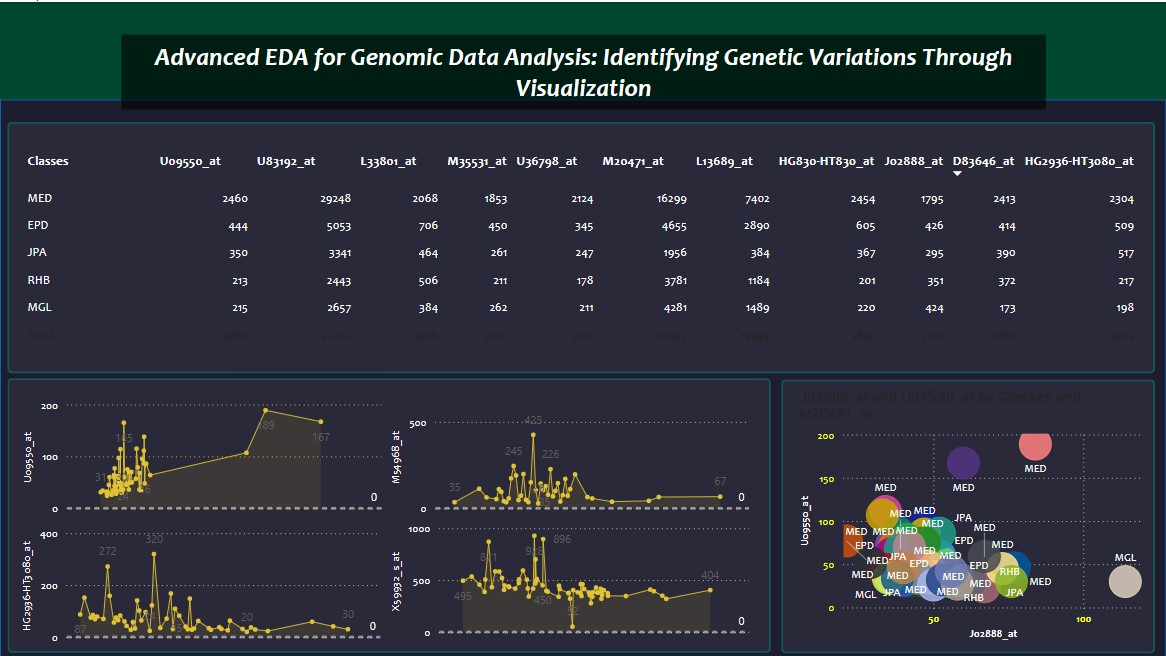

Layout of this report page (visuals, bound fields, positions):
{"tool":"powerbi","page":{"name":"Page 2","canvas":[1280,720],"ordinal":1},"visuals":[{"type":"shape","box":[0,106.6,1280.3,613.4],"z":0},{"type":"shape","box":[857.6,414.4,410.3,300.5],"z":1000},{"type":"shape","box":[8.6,412.9,838,301.4],"z":2000},{"type":"actionButton","box":[133.1,35.7,1015.4,82.3],"z":3000},{"type":"shape","box":[8.2,131.7,1259.7,275.8],"z":4000},{"type":"scatterChart","fields":{"Category":["pp5i_traintop02.Classes"],"X":["Sum(pp5i_traintop02.J02888_at)"],"Y":["Sum(pp5i_traintop02.U09550_at)"],"Series":["pp5i_traintop02.M20471_at"]},"box":[872.7,422.6,396.6,282.7],"z":5000},{"type":"areaChart","fields":{"Category":["pp5i_traintop02.J04760_at"],"Y":["Sum(pp5i_traintop02.U09550_at)"]},"box":[20.6,428.1,403.4,141.3],"z":6000},{"type":"areaChart","fields":{"Y":["Sum(pp5i_traintop02.HG2936-HT3080_at)"],"Category":["pp5i_traintop02.M54968_at"]},"box":[19.2,569.5,403.4,141.3],"z":7000},{"type":"areaChart","fields":{"Y":["Sum(pp5i_traintop02.X59932_s_at)"],"Category":["pp5i_traintop02.M20471_at"]},"box":[424,564,403.4,141.3],"z":8000},{"type":"areaChart","fields":{"Y":["Sum(pp5i_traintop02.M54968_at)"],"Category":["pp5i_traintop02.D13634_at"]},"box":[424,428.1,403.4,141.3],"z":9000},{"type":"tableEx","fields":{"Values":["pp5i_traintop02.Classes","Sum(pp5i_traintop02.U09550_at)","Sum(pp5i_traintop02.U83192_at)","Sum(pp5i_traintop02.L33801_at)","Sum(pp5i_traintop02.M35531_at)","Sum(pp5i_traintop02.U36798_at)","Sum(pp5i_traintop02.M20471_at)","Sum(pp5i_traintop02.L13689_at)","Sum(pp5i_traintop02.HG830-HT830_at)","Sum(pp5i_traintop02.J02888_at)","Sum(pp5i_traintop02.D83646_at)","Sum(pp5i_traintop02.HG2936-HT3080_at)"]},"box":[19.2,153.7,1239.1,249.7],"z":10000}]}

Visuals, with their boxes in screenshot pixels (x1, y1, x2, y2), scaled from the page's 1280x720 canvas onto the 1166x656 screenshot:
shape: Rect(0, 97, 1165, 655)
shape: Rect(781, 378, 1155, 651)
shape: Rect(8, 376, 771, 651)
actionButton: Rect(121, 33, 1046, 108)
shape: Rect(7, 120, 1155, 371)
scatterChart - pp5i_traintop02.Classes x Sum(pp5i_traintop02.J02888_at): Rect(795, 385, 1156, 643)
areaChart - pp5i_traintop02.J04760_at x Sum(pp5i_traintop02.U09550_at): Rect(19, 390, 386, 519)
areaChart - Sum(pp5i_traintop02.HG2936-HT3080_at) x pp5i_traintop02.M54968_at: Rect(17, 519, 385, 648)
areaChart - Sum(pp5i_traintop02.X59932_s_at) x pp5i_traintop02.M20471_at: Rect(386, 514, 754, 643)
areaChart - Sum(pp5i_traintop02.M54968_at) x pp5i_traintop02.D13634_at: Rect(386, 390, 754, 519)
tableEx - pp5i_traintop02.Classes x Sum(pp5i_traintop02.U09550_at): Rect(17, 140, 1146, 368)
